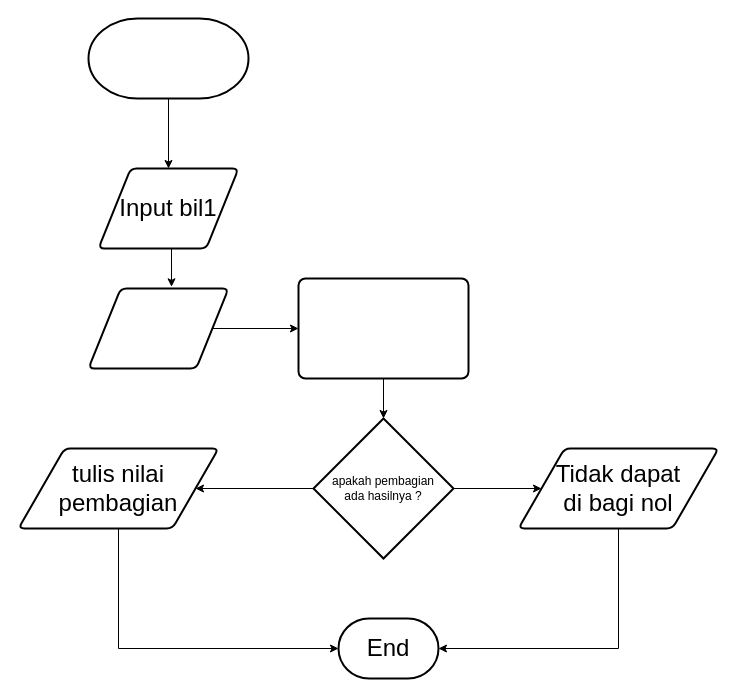
Some shapes in this 736 by 696 pixel diagram are drawn without their labels. The shapes that lost their labels are listed below. From the top down, each one's centre as x and y in pixels, then its label:
At pixel 168 58: "Start".
At pixel 158 328: "Input bil2".
At pixel 383 328: "pembagian = bil1/bil2".
